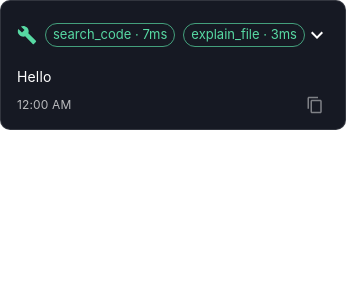
Test: MessageBubble › summarises each tool call as a chip and reveals its output on expand
The image size is (363, 303).
Expected: the text "explain_file · 3ms" is shown, x1=184 y1=25 x2=304 y2=45
Click the text "search_code · 7ms" at (110, 35), box x1=46 y1=25 x2=174 y2=45
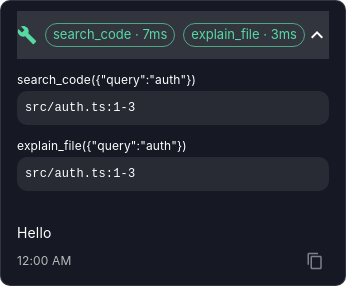
Result: the text "search_code({\"query\":\"auth\"})" is shown at x1=17 y1=72 x2=196 y2=87
